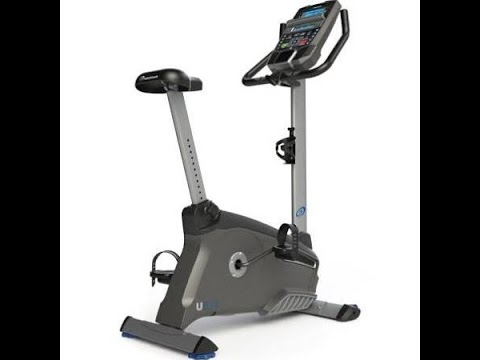gym_bike: (109, 3, 377, 360)
